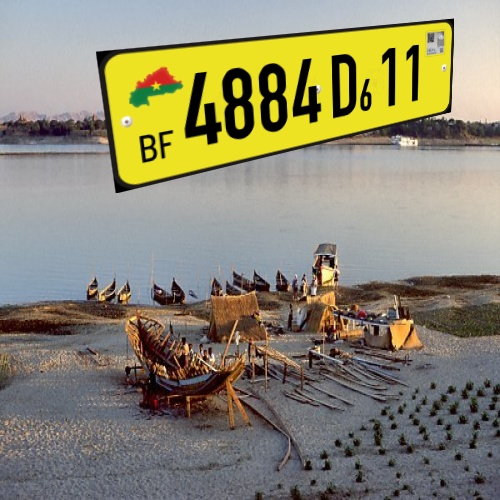plate: (75, 14, 466, 203)
